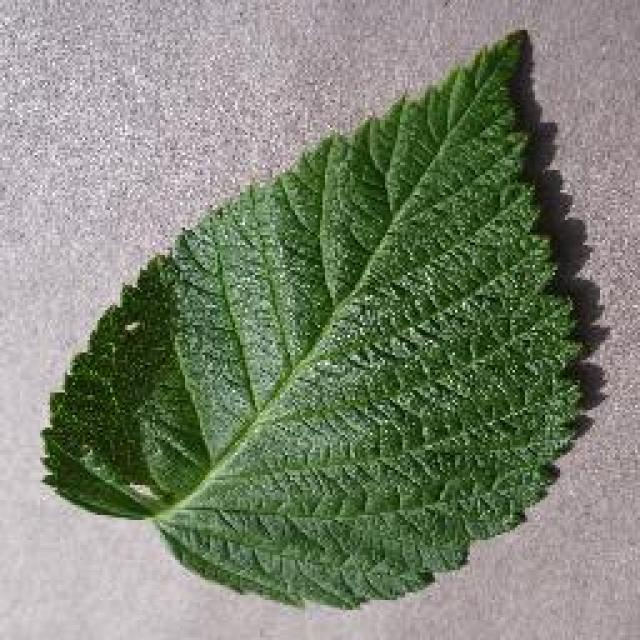Ras_healthy: (109, 119, 546, 534)
